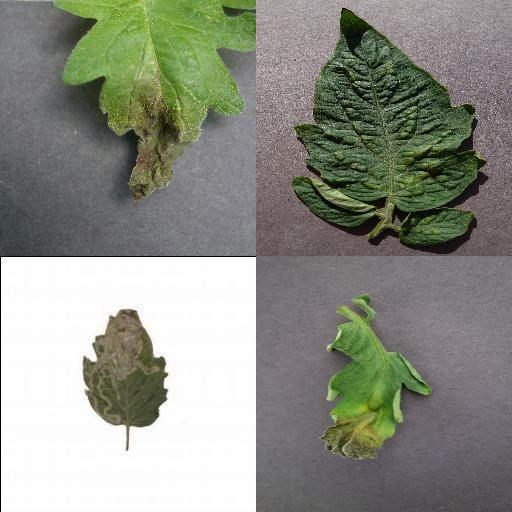Late Blight: (48, 0, 256, 202), (322, 318, 432, 462)
Leaf Miner: (80, 308, 169, 428)
Spider Mites: (290, 5, 486, 209)
